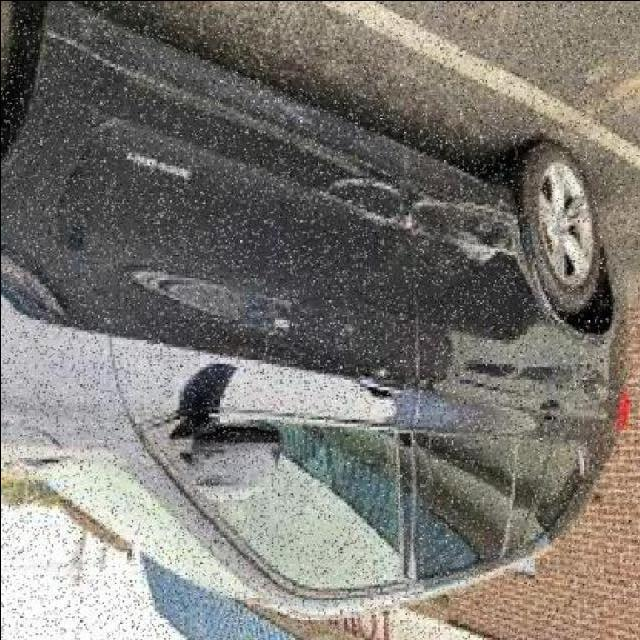RunningBoard-Dent: (170, 53, 341, 146)
doorouter-dent: (115, 191, 412, 422), (409, 196, 572, 430)
